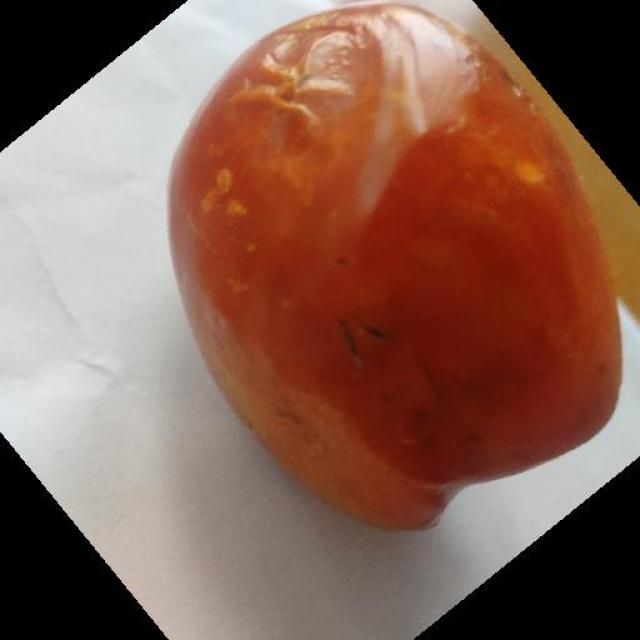Stale_tomato: (168, 17, 611, 546)
